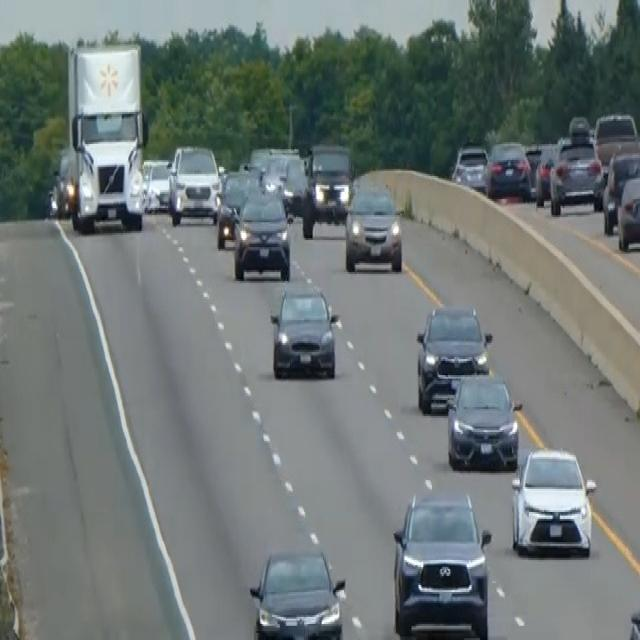car: (391, 487, 492, 638), (510, 444, 597, 558), (248, 544, 346, 638), (415, 300, 492, 412), (445, 370, 521, 471), (269, 281, 338, 380), (232, 183, 291, 281), (344, 181, 403, 272), (301, 138, 354, 236), (548, 132, 604, 215), (167, 142, 220, 226), (216, 165, 259, 249), (602, 146, 639, 234), (485, 137, 532, 201), (593, 109, 639, 174), (263, 149, 307, 215), (451, 140, 489, 194), (47, 149, 74, 219), (616, 170, 639, 250), (142, 156, 172, 214), (534, 143, 557, 205), (524, 140, 542, 188), (567, 112, 591, 140)
lorry: (64, 41, 148, 233)
